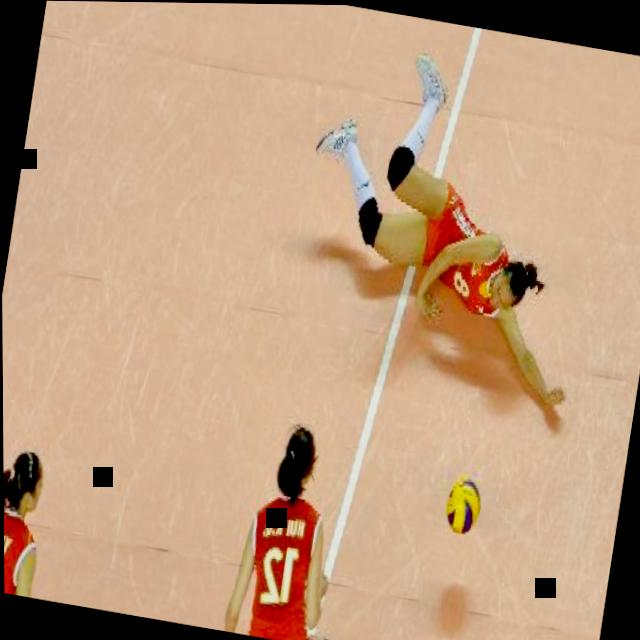Fall-Detected: (259, 3, 626, 430)
